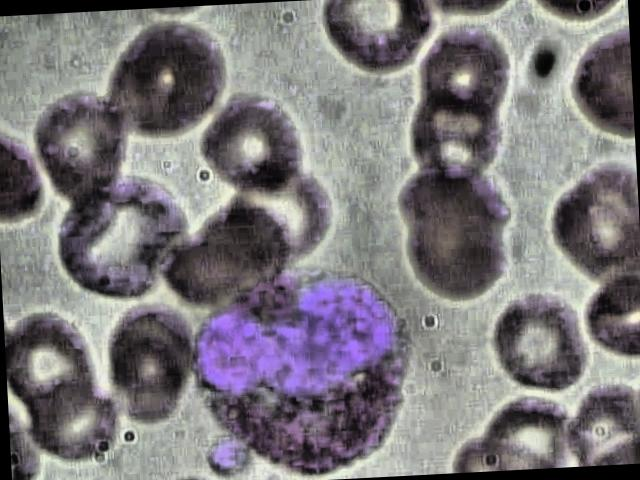RBC: (90, 14, 228, 152), (482, 287, 596, 400), (24, 89, 138, 202), (195, 83, 308, 196), (5, 310, 111, 426), (400, 202, 518, 304), (15, 370, 126, 465), (414, 24, 520, 117)
WBC: (177, 255, 420, 480)
